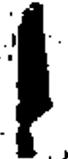Reed: (13, 2, 57, 159)
